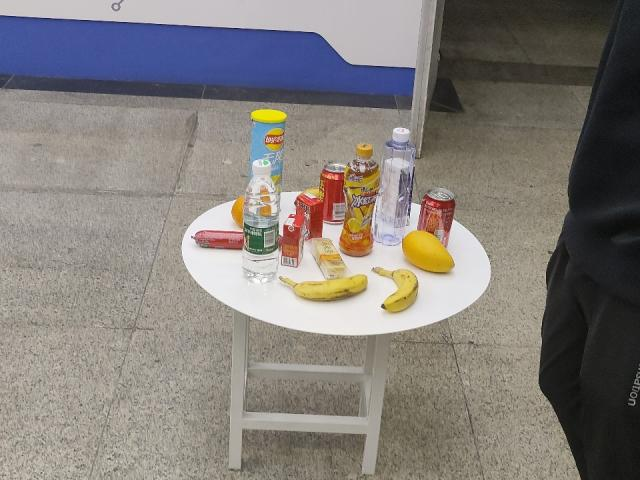Canned_drinks: (319, 163, 347, 225), (423, 190, 452, 241)
bottle: (245, 163, 282, 283), (378, 132, 408, 240)
drink_box: (283, 218, 305, 270), (301, 192, 323, 240)
